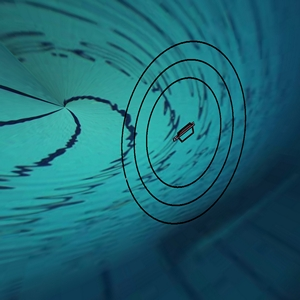circle: (115, 35, 256, 233)
submarine: (170, 114, 199, 156)
